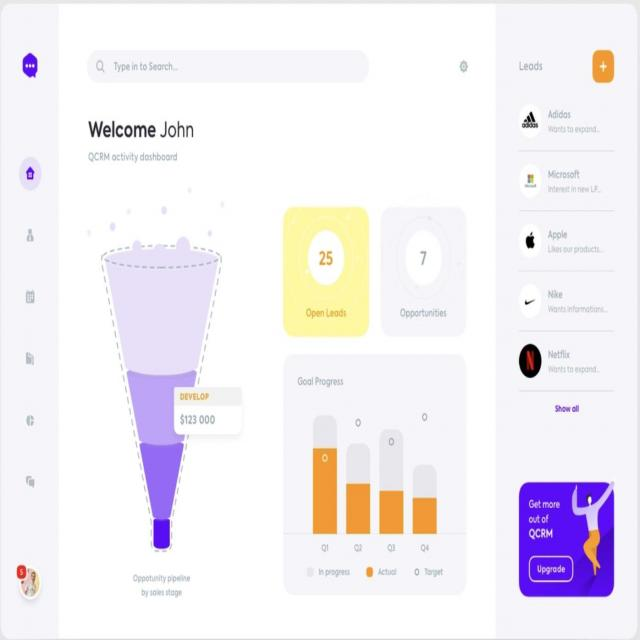button: (529, 554, 574, 584), (590, 47, 617, 86)
input: (87, 48, 370, 86)
